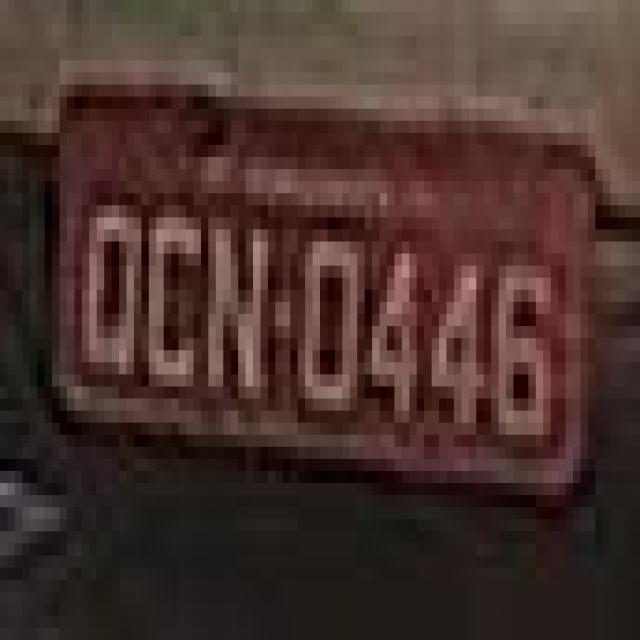0: (299, 219, 363, 431)
4: (366, 226, 425, 428), (430, 247, 490, 440)
6: (488, 255, 564, 459)
C: (143, 195, 206, 398)
N: (208, 204, 273, 418)
Q: (76, 194, 142, 396)
